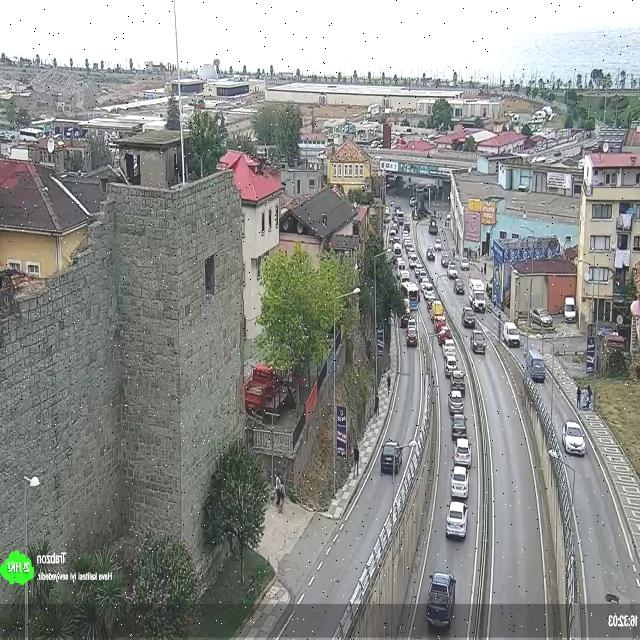car: (422, 569, 458, 637), (562, 418, 588, 462), (380, 438, 403, 475)
